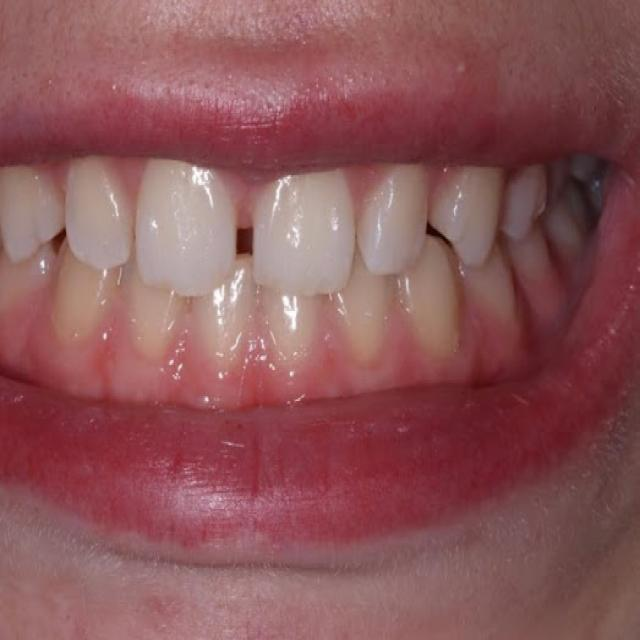tooth: (267, 175, 352, 262), (352, 159, 420, 262), (129, 282, 203, 368), (146, 170, 209, 270), (402, 238, 456, 354), (203, 260, 257, 368), (64, 162, 124, 249), (345, 270, 393, 370), (264, 292, 342, 351), (452, 160, 496, 254), (1, 250, 52, 321), (5, 180, 50, 257), (468, 260, 522, 322), (59, 274, 121, 322), (514, 237, 556, 306), (499, 192, 540, 234), (552, 213, 588, 237)
